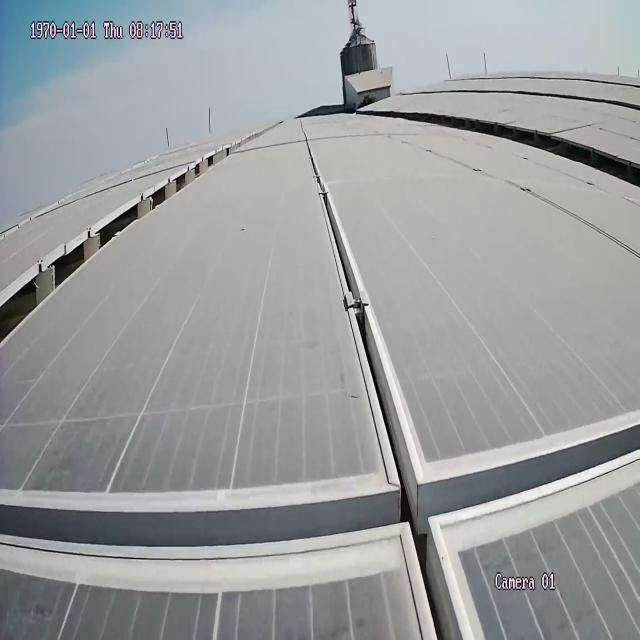interior panel: (1, 151, 640, 639)
outher panel: (2, 138, 244, 345), (380, 111, 640, 190)
